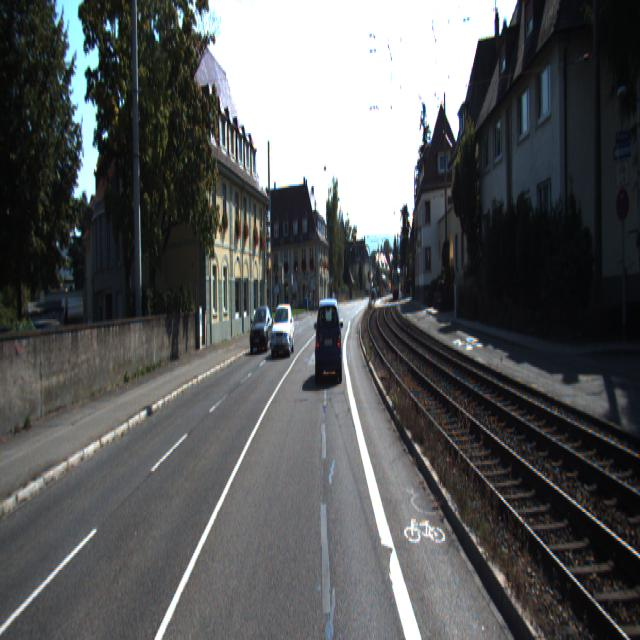Car: (314, 296, 343, 385), (270, 305, 294, 359), (250, 307, 273, 355)
